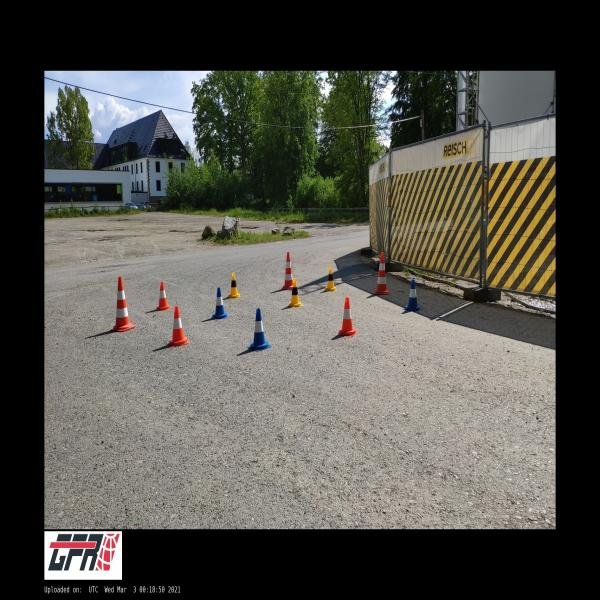blue_cone: (248, 308, 272, 352), (403, 279, 422, 312), (212, 288, 227, 318)
large_orange_cone: (111, 276, 135, 332), (374, 252, 390, 294), (282, 252, 293, 290)
orange_cone: (169, 306, 189, 346), (338, 298, 357, 336), (156, 282, 171, 310)
yellow_cone: (287, 278, 303, 308), (228, 273, 240, 298), (325, 267, 336, 292)
